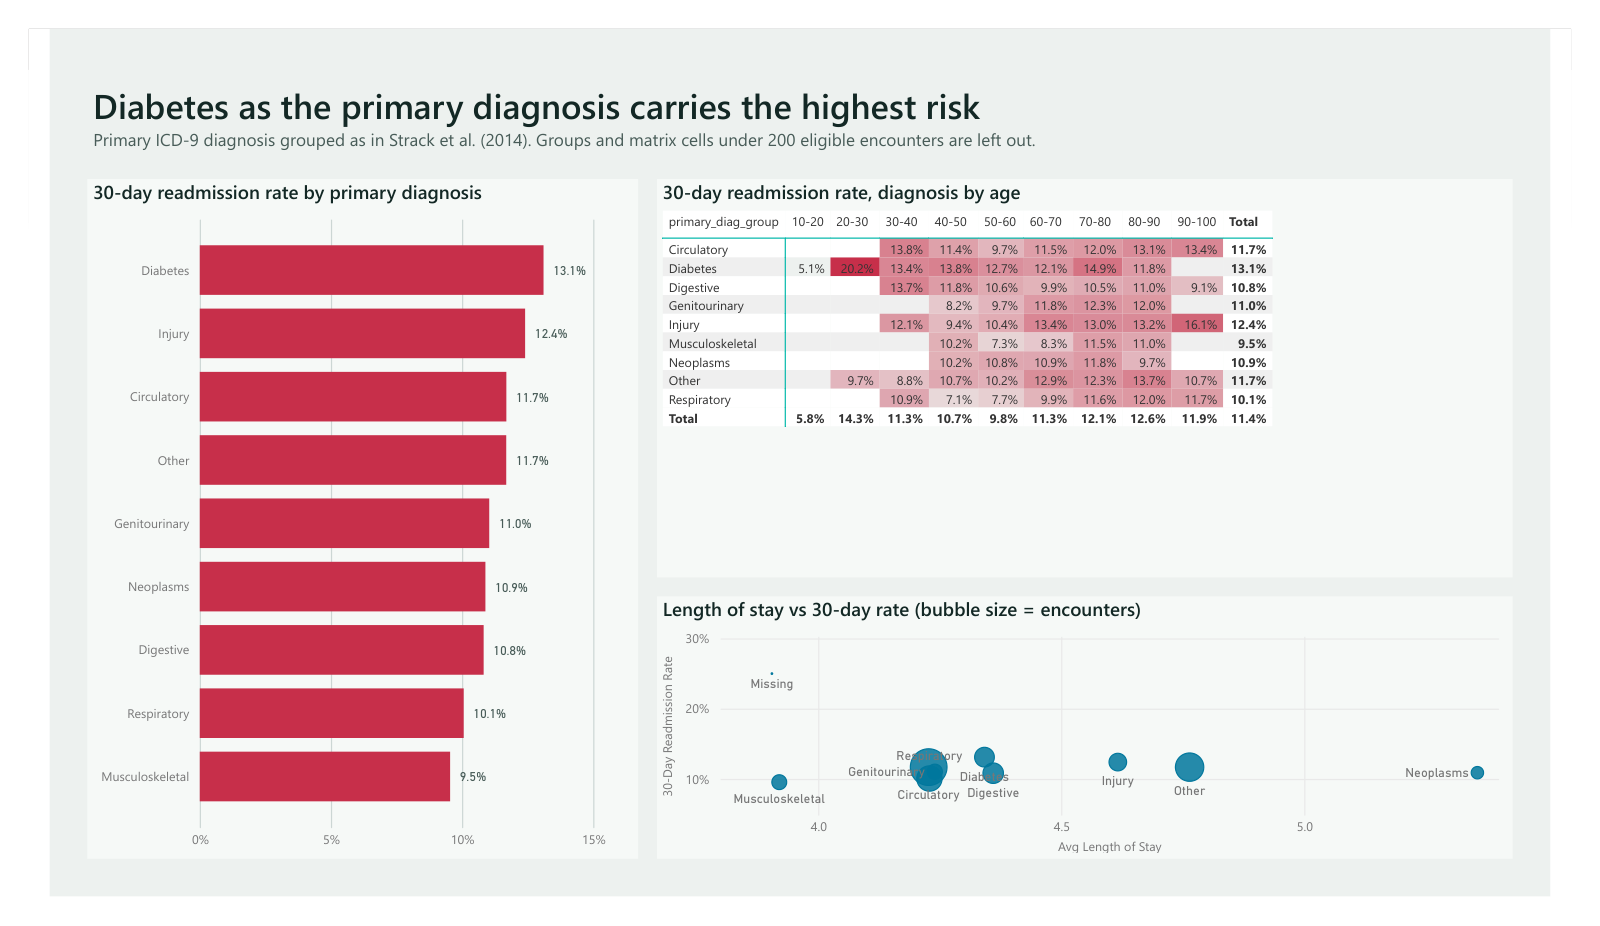

The dashboard page shown, as its layout file describes it:
{"tool":"powerbi","page":{"name":"Diagnosis","canvas":[1280,720],"ordinal":2},"visuals":[{"type":"textbox","box":[32,20,900,74],"z":0},{"type":"clusteredBarChart","title":"30-day readmission rate by primary diagnosis","fields":{"Category":["fact_encounter.primary_diag_group"],"Y":["fact_encounter.30-Day Rate (n>=200)"]},"box":[32,108,470,580],"z":1000},{"type":"pivotTable","title":"30-day readmission rate, diagnosis by age","fields":{"Columns":["fact_encounter.age_band"],"Rows":["fact_encounter.primary_diag_group"],"Values":["fact_encounter.30-Day Rate (n>=200)"]},"box":[518,108,730,340],"z":2000},{"type":"scatterChart","title":"Length of stay vs 30-day rate (bubble size = encounters)","fields":{"Category":["fact_encounter.primary_diag_group"],"Size":["fact_encounter.Encounters"],"X":["fact_encounter.Avg Length of Stay"],"Y":["fact_encounter.30-Day Readmission Rate"]},"box":[518,464,730,224],"z":3000}]}

Visuals, with their boxes in screenshot pixels (x1, y1, x2, y2), scaled from the page's 1280x720 canvas onto the 1600x926 screenshot:
textbox: detection(40, 26, 1165, 121)
"30-day readmission rate by primary diagnosis" clusteredBarChart: detection(40, 139, 628, 885)
"30-day readmission rate, diagnosis by age" pivotTable: detection(648, 139, 1560, 576)
"Length of stay vs 30-day rate (bubble size = encounters)" scatterChart: detection(648, 597, 1560, 885)
